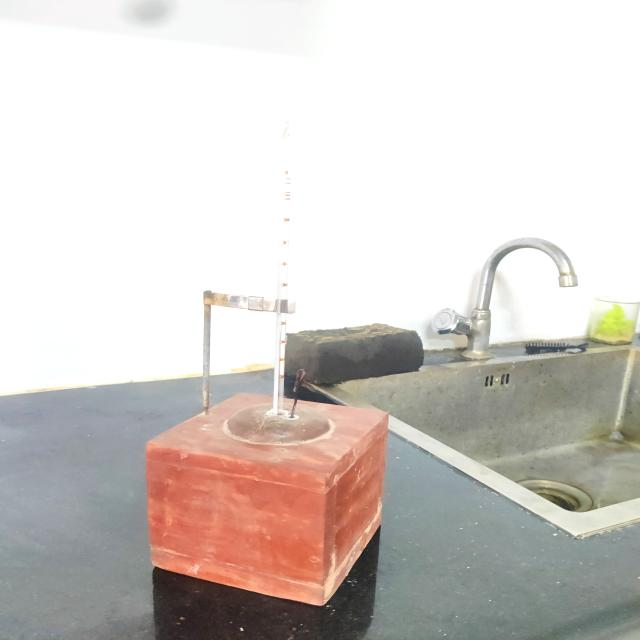Calorimeter: (127, 98, 425, 616)
